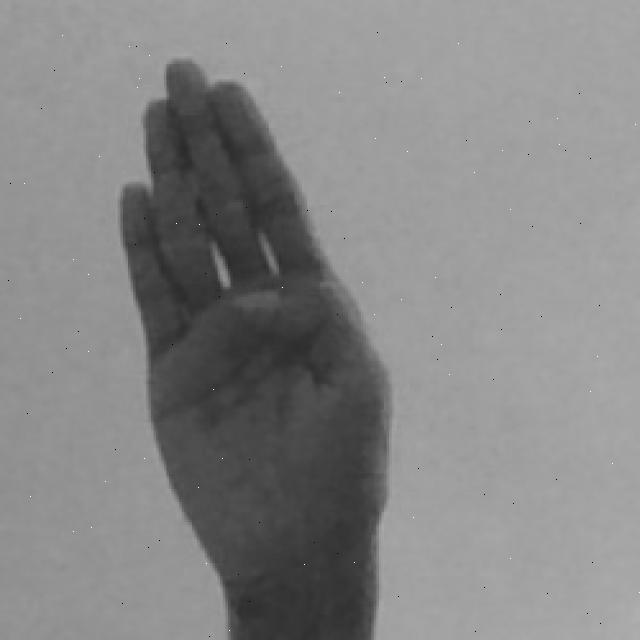B: (115, 56, 397, 640)
